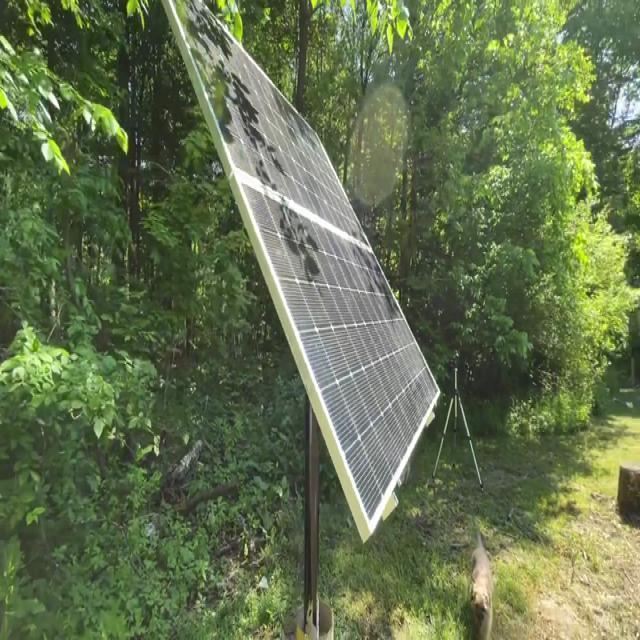Normal Solar Panel: (167, 0, 440, 541)
